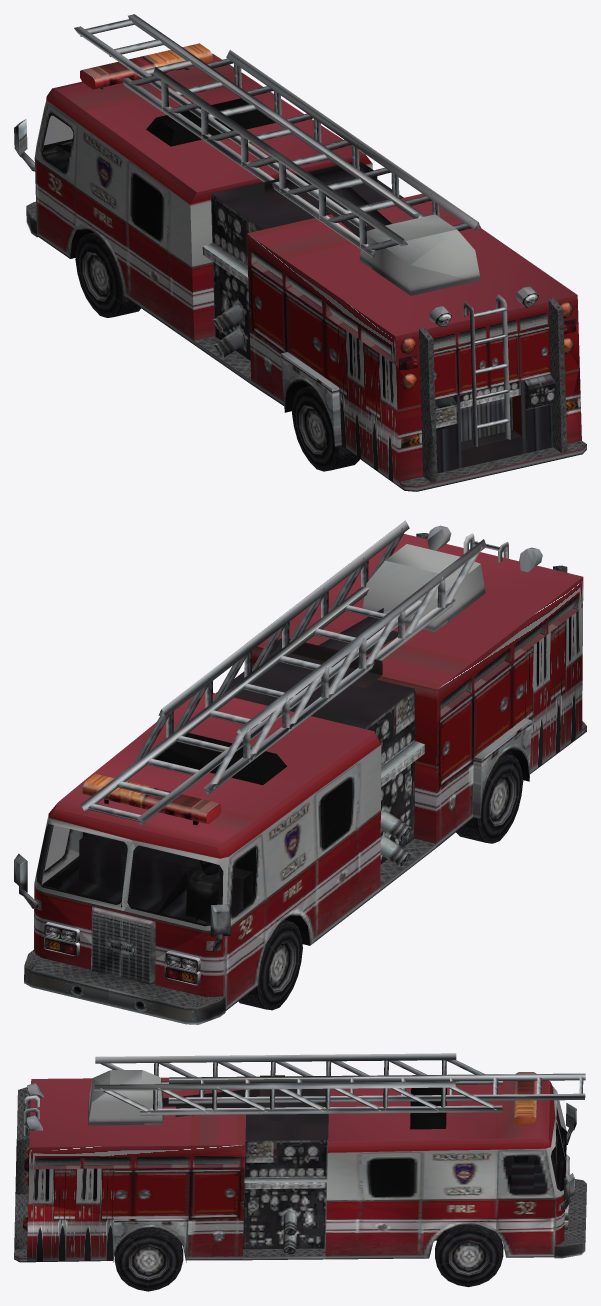
The model's file is Fire Truck.glb.
3 renders of one model, top to bottom at view 1: azimuth 30°, elevation 25°; view 2: azimuth 150°, elevation 25°; view 3: azimuth 270°, elevation 25°, orthographic. The views are drawn at different scales.
Visible parts, largest first — view 1: mesh_4_13.nr, mesh_4_14.nr, mesh_4_18.nr, mesh_4_20.nr, mesh_4_15.nr; view 2: mesh_4_13.nr, mesh_4_14.nr, mesh_4_15.nr, mesh_4_18.nr, mesh_4_20.nr; view 3: mesh_4_13.nr, mesh_4_14.nr, mesh_4_17.nr, mesh_4_19.nr, mesh_4_15.nr.
Part boxes in pixels (x1,y1,x2,y2): mesh_4_13.nr: (14, 14, 586, 491); mesh_4_14.nr: (18, 67, 586, 486); mesh_4_18.nr: (75, 232, 140, 317); mesh_4_20.nr: (292, 386, 359, 471); mesh_4_15.nr: (42, 115, 73, 170); mesh_4_13.nr: (14, 520, 586, 1024); mesh_4_14.nr: (40, 533, 586, 926); mesh_4_15.nr: (37, 824, 256, 925); mesh_4_18.nr: (238, 920, 302, 1010); mesh_4_20.nr: (456, 753, 523, 843); mesh_4_13.nr: (14, 1053, 586, 1262); mesh_4_14.nr: (14, 1070, 574, 1258); mesh_4_17.nr: (435, 1224, 503, 1287); mesh_4_19.nr: (114, 1228, 183, 1291); mesh_4_15.nr: (505, 1092, 566, 1192).
Size of the model in its own units: 3.09 by 3.44 by 9.58.
3 materials, 3 textured.
